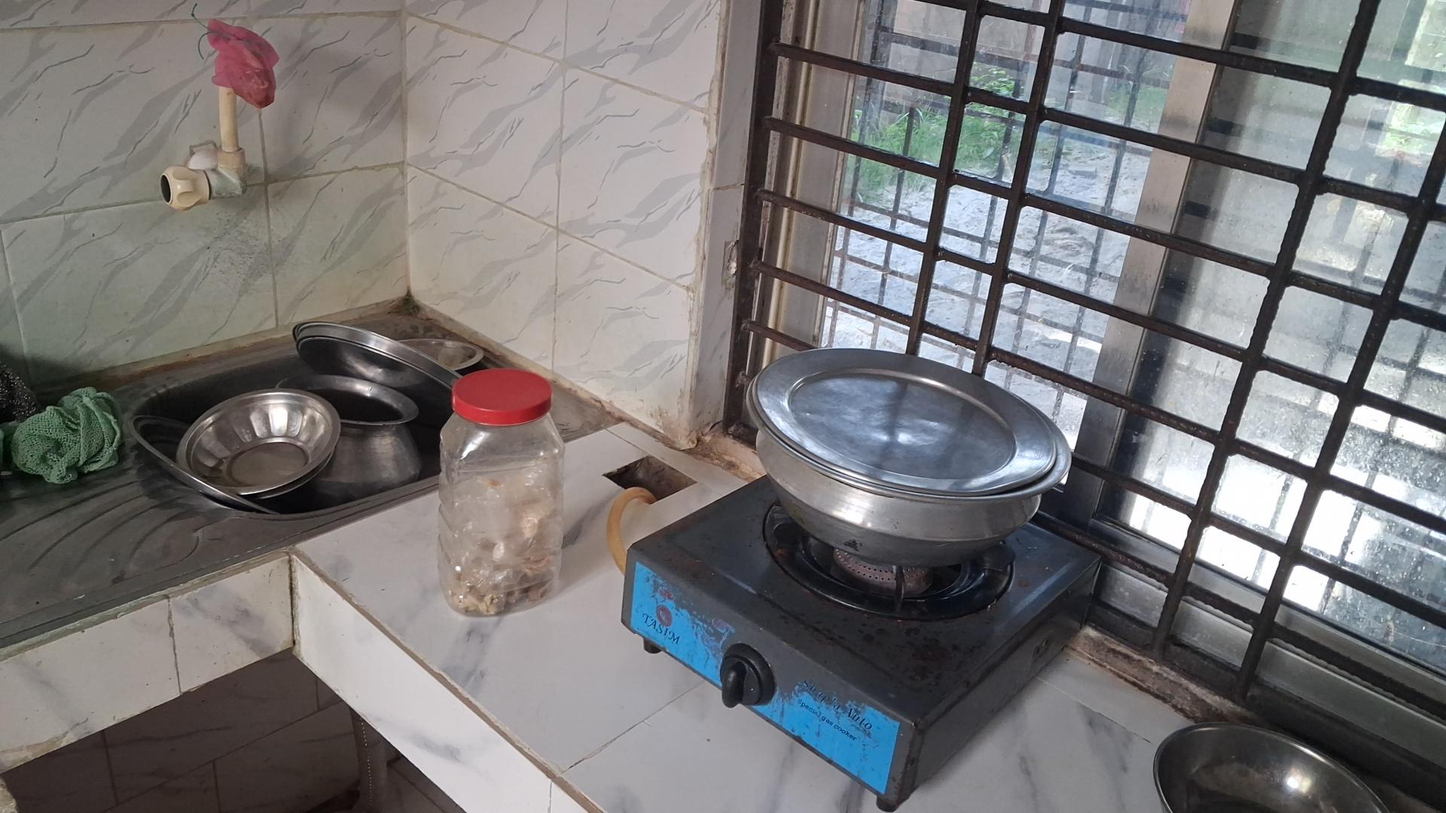Bowl: (1149, 713, 1390, 813), (178, 388, 341, 503)
Cup: (161, 167, 211, 210)
Jar: (436, 366, 565, 618)
Pot: (742, 347, 1070, 566)
